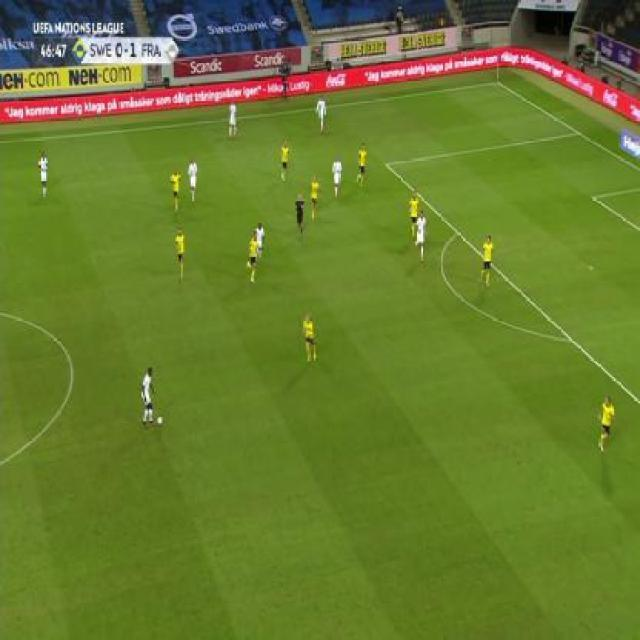ball: (156, 413, 164, 426)
player: (139, 367, 162, 429), (595, 392, 617, 454), (478, 234, 497, 288), (301, 312, 318, 365), (245, 229, 261, 283), (414, 209, 430, 263), (173, 226, 187, 280), (355, 142, 369, 190), (408, 189, 421, 240), (37, 150, 50, 199), (187, 156, 200, 202), (169, 168, 182, 214), (331, 155, 344, 200), (278, 140, 291, 182), (294, 191, 305, 240), (309, 172, 320, 220), (315, 93, 328, 133), (255, 221, 266, 257), (229, 100, 238, 139)
